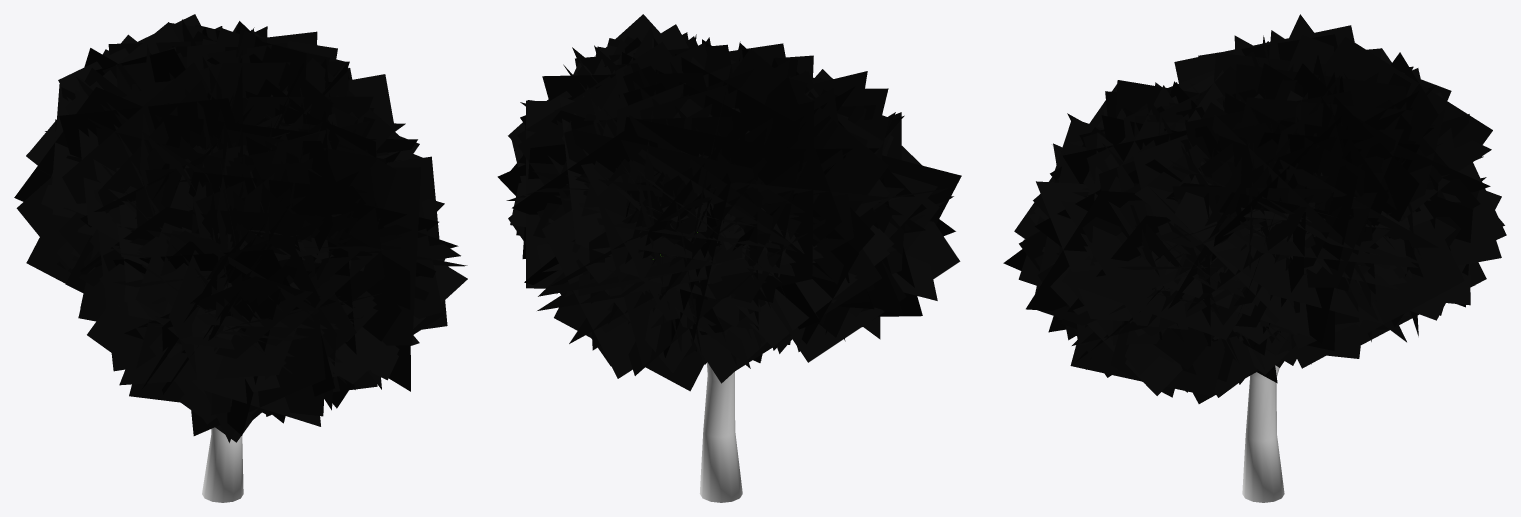
The model's file is stylizedTree03_LOD0.fbx.
3 views of the same model, side by side, from view 1: azimuth 30°, elevation 25°; view 2: azimuth 150°, elevation 25°; view 3: azimuth 270°, elevation 25° (orthographic). The views are drawn at different scales.
Parts seen in each view (by area): view 1: toonsimplesyoungleafs.541, Trunk; view 2: toonsimplesyoungleafs.541, Trunk; view 3: toonsimplesyoungleafs.541, Trunk.
Boxes of the visible parts, bbox=[...] form: toonsimplesyoungleafs.541: bbox=[14, 14, 467, 442]; Trunk: bbox=[202, 427, 243, 502]; toonsimplesyoungleafs.541: bbox=[497, 14, 961, 391]; Trunk: bbox=[699, 362, 742, 502]; toonsimplesyoungleafs.541: bbox=[1003, 14, 1506, 403]; Trunk: bbox=[1242, 365, 1284, 502].
Bounding box in the file's own units: 516 × 614 × 619.
